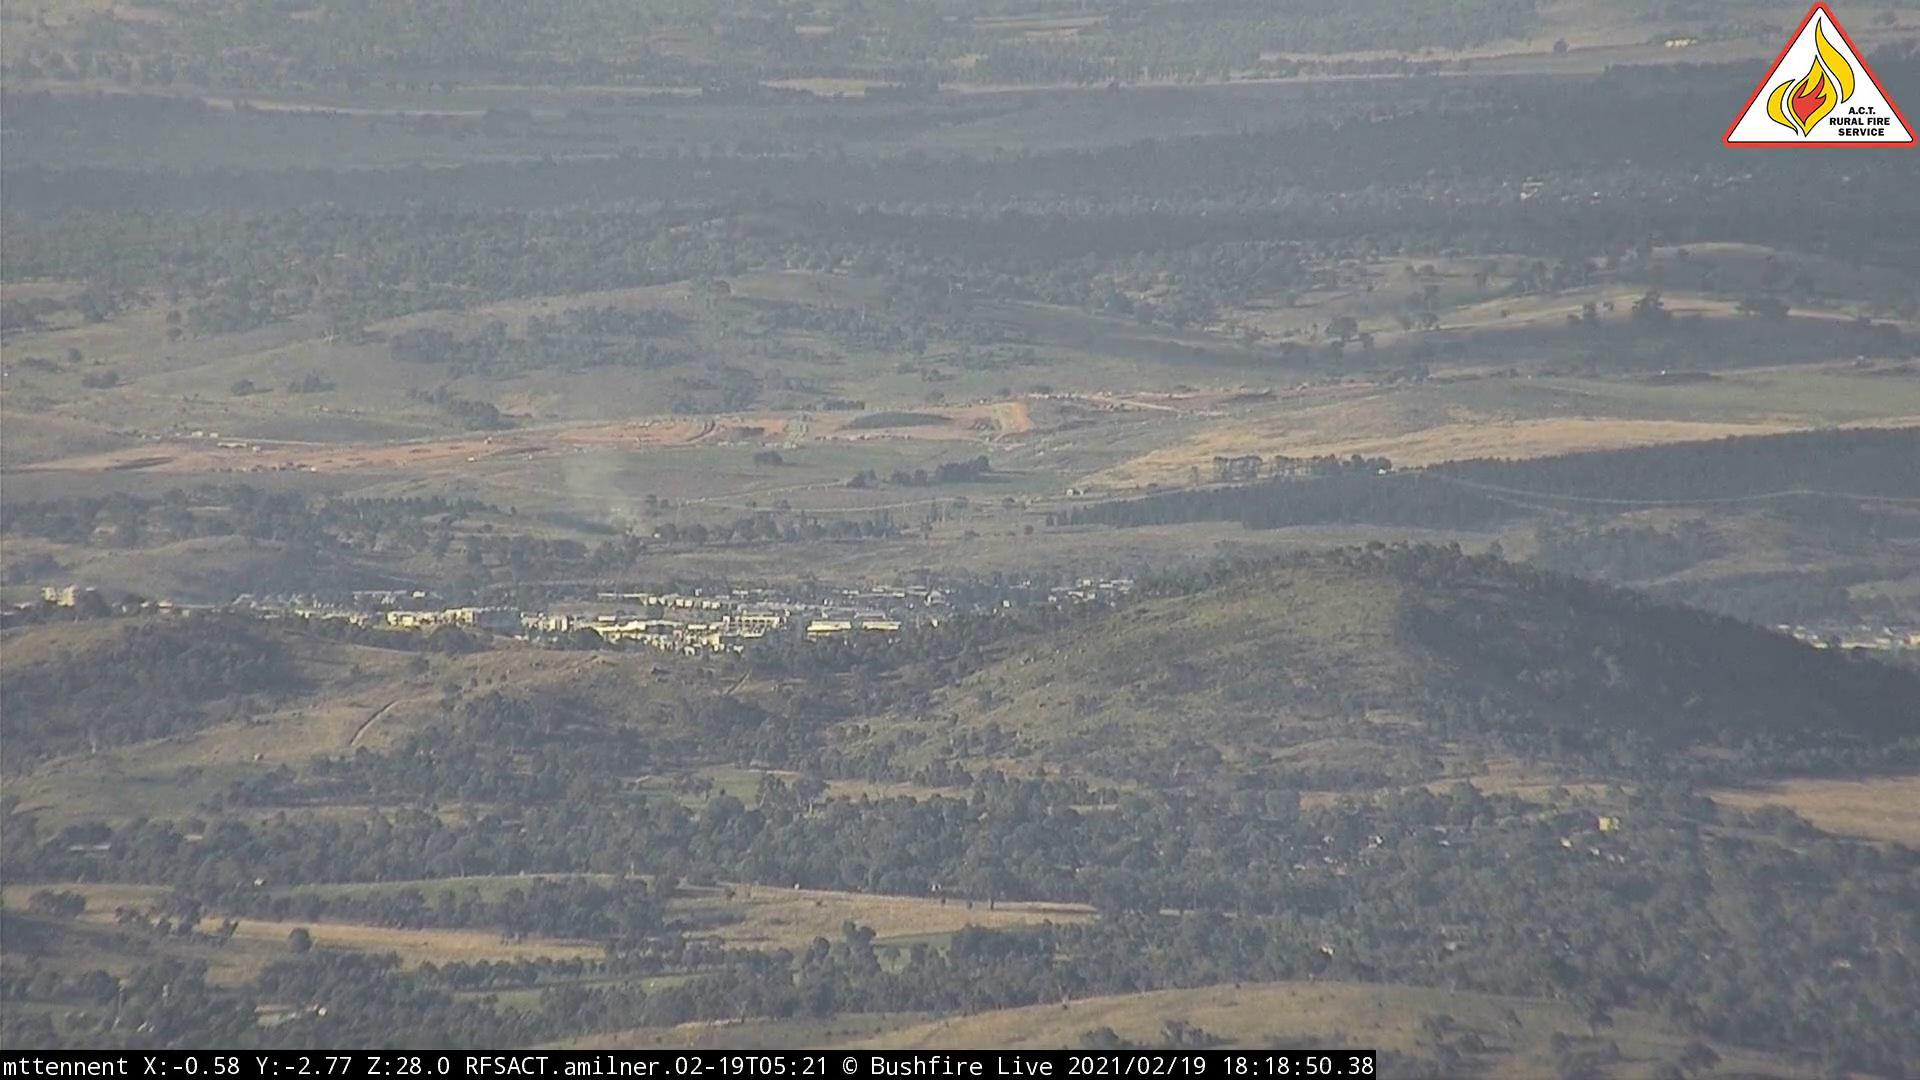Smoke: (612, 506, 667, 553)
